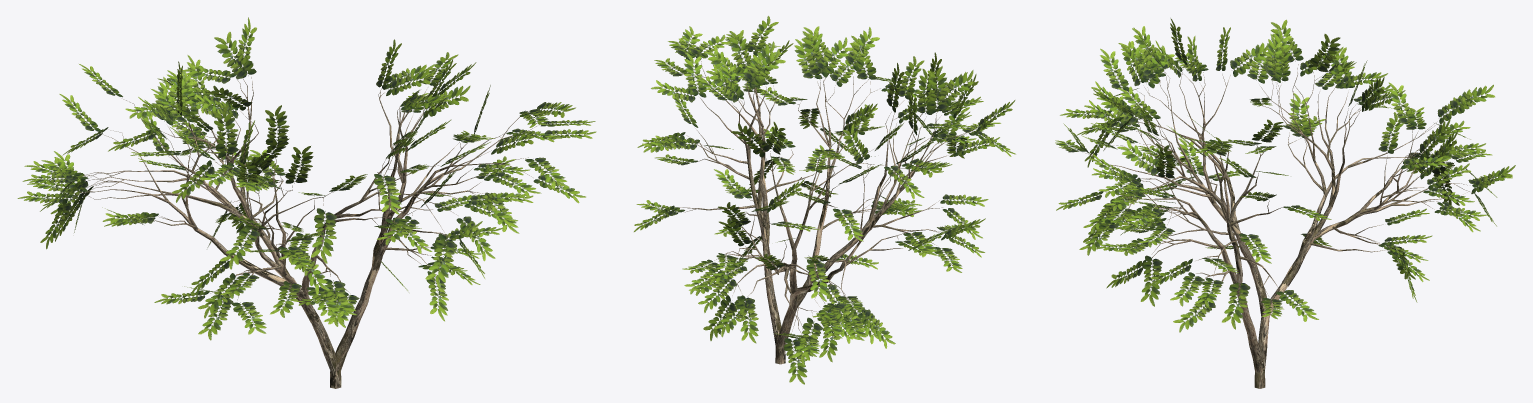
Rendered from ArvoreLonga.fbx.
The picture shows the model from 3 angles, left to right: view 1: azimuth 30°, elevation 25°; view 2: azimuth 150°, elevation 25°; view 3: azimuth 270°, elevation 25°; orthographic projection. The views are drawn at different scales.
Visible parts, largest first — view 1: Folhas3_LOD0, Arvore3_LOD0; view 2: Folhas3_LOD0, Arvore3_LOD0; view 3: Folhas3_LOD0, Arvore3_LOD0.
Part boxes in pixels (<box>): Folhas3_LOD0: <box>17,17,596,340</box>; Arvore3_LOD0: <box>72,77,536,388</box>; Folhas3_LOD0: <box>634,16,1015,384</box>; Arvore3_LOD0: <box>678,56,972,364</box>; Folhas3_LOD0: <box>1055,18,1515,332</box>; Arvore3_LOD0: <box>1085,64,1475,388</box>.
Size of what is drawn, in the model's own units: 1130 by 861 by 1191.
